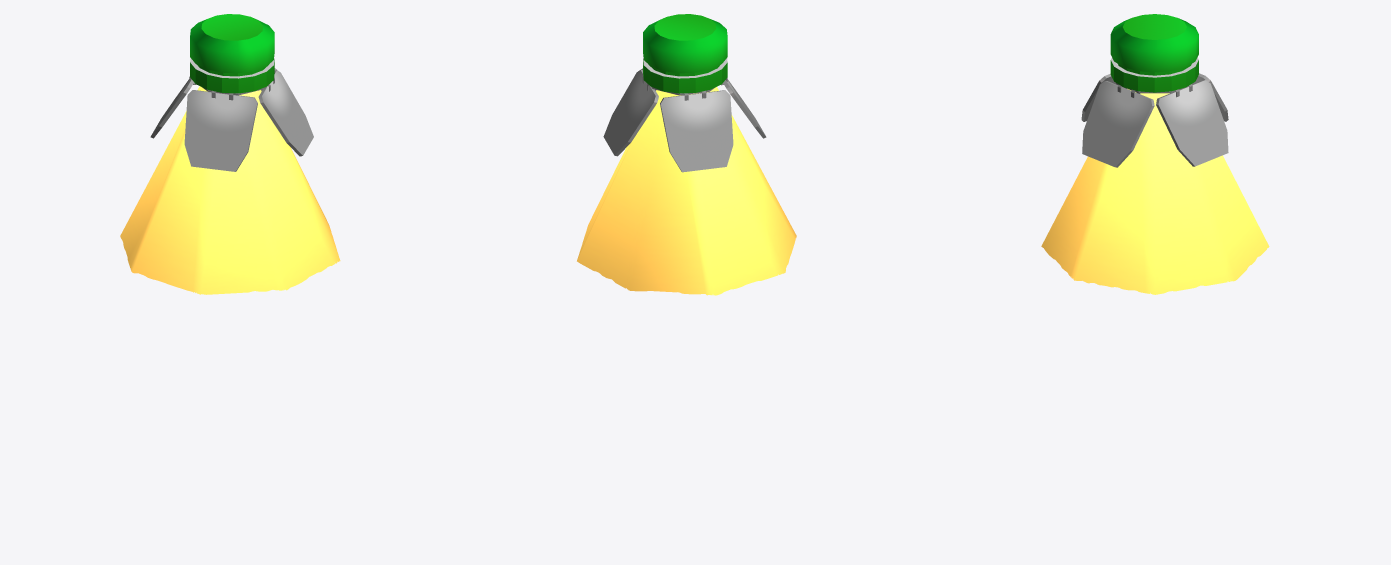
The model's file is LIT0110010.fbx.
3 views of the same model, side by side, from view 1: azimuth 30°, elevation 25°; view 2: azimuth 150°, elevation 25°; view 3: azimuth 270°, elevation 25° (orthographic).
Parts seen in each view (by area): view 1: smLIT0110010; view 2: smLIT0110010; view 3: smLIT0110010.
Part boxes in pixels (box(x1,y1,x2,y2)): smLIT0110010: box(120, 14, 340, 294); smLIT0110010: box(577, 14, 796, 295); smLIT0110010: box(1041, 14, 1269, 294).
Bounding box in the file's own units: 200 × 214 × 200.
Materials: 1 (1 with a texture image).
